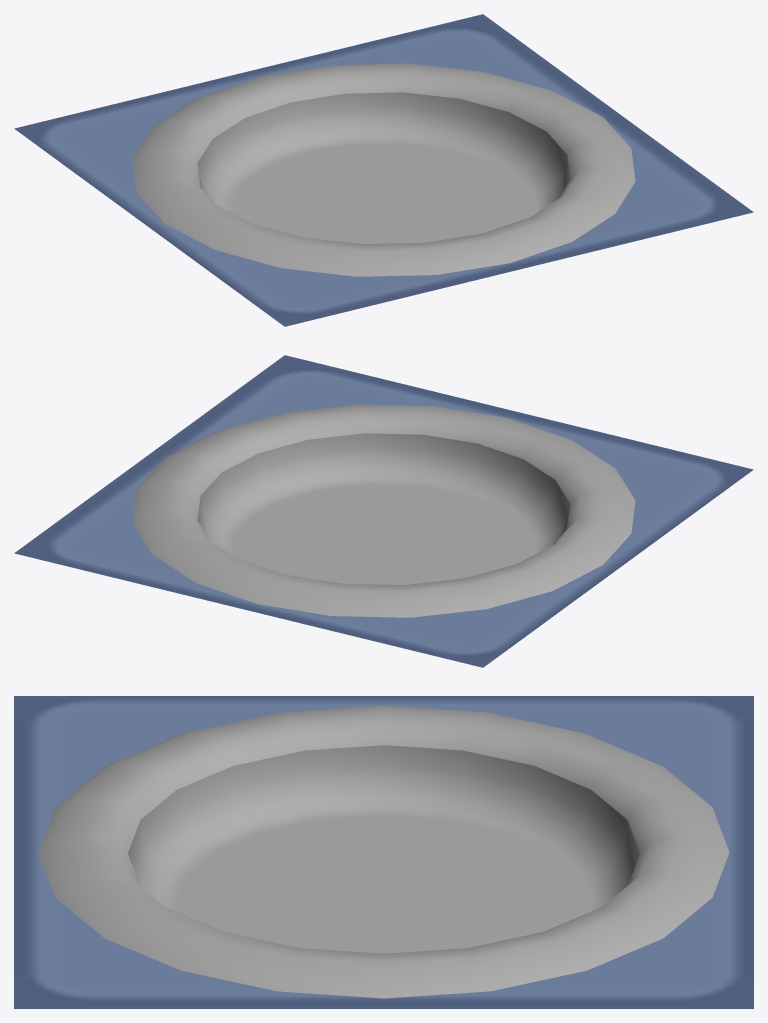
The model's file is Tile Exit.fbx.
3 views of the same model, one above another, from view 1: azimuth 30°, elevation 25°; view 2: azimuth 150°, elevation 25°; view 3: azimuth 270°, elevation 25° (orthographic). The views are drawn at different scales.
Visible parts, largest first — view 1: Tile_Exit; view 2: Tile_Exit; view 3: Tile_Exit.
Boxes of the visible parts, x1,y1,x2,y2 form: Tile_Exit: (14, 14, 753, 326); Tile_Exit: (14, 355, 753, 667); Tile_Exit: (14, 696, 753, 1008).
Bounding box in the file's own units: 100 × 9.83 × 100.
Materials: 3 (1 with a texture image).
